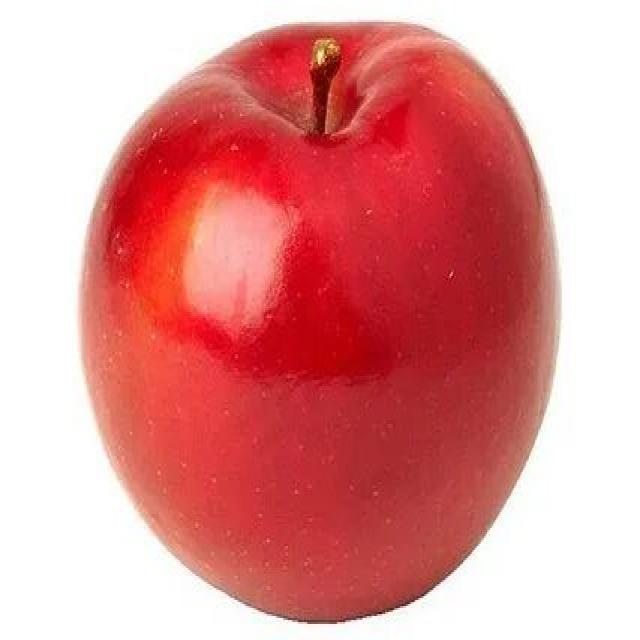Healty Apple: (76, 20, 564, 618)
